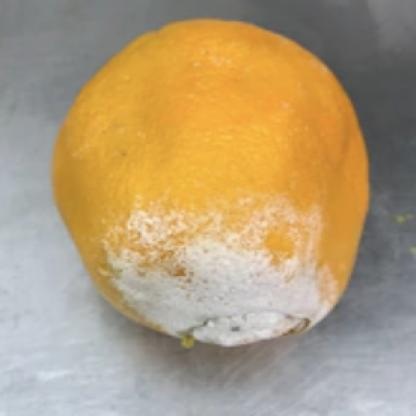rotten: (55, 21, 374, 354)
